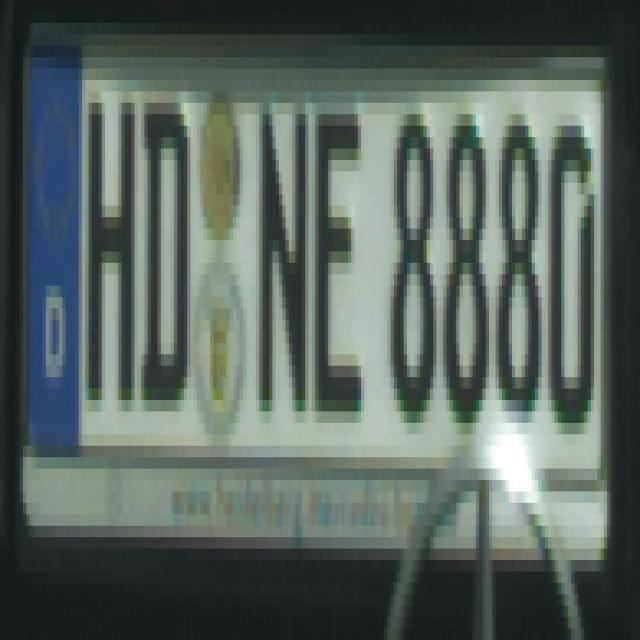Allemagne: (21, 58, 81, 468)
EU: (26, 49, 606, 500)
